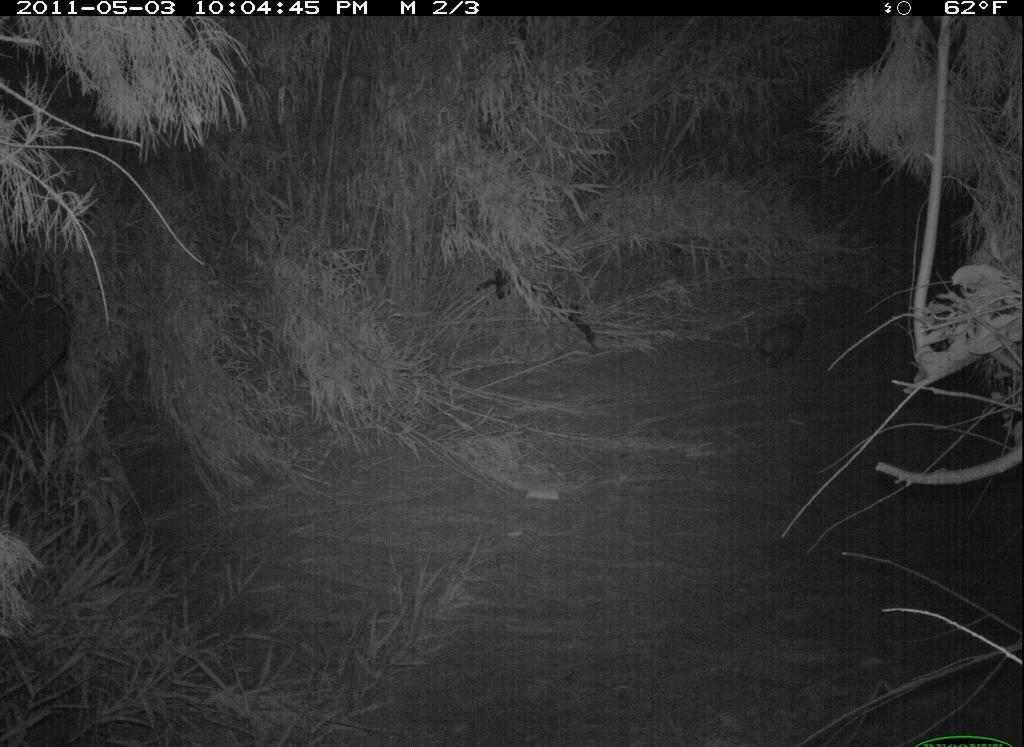opossum: (747, 305, 826, 377)
